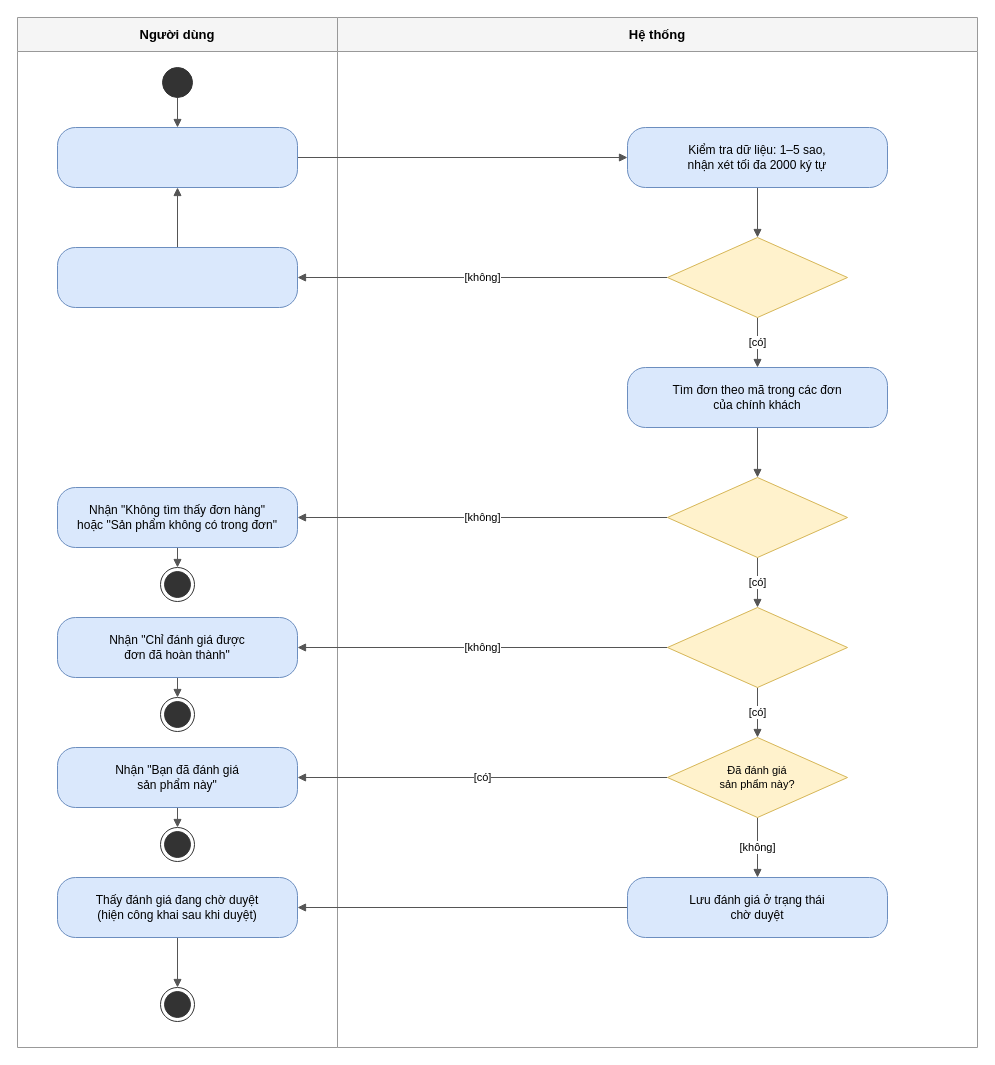
Image size: 995x1065. Some labels were removed from this diagram. The centre of each missing label's shape, as x and y in pixels:
Chọn sản phẩm đã mua cần đánh giá, chấm sao, viết nhận xét: [177,157]
Hợp lệ?: [757,277]
Sửa theo thông báo lỗi: [177,277]
Đơn có sản phẩm này?: [757,517]
Đơn đã hoàn thành?: [757,647]
